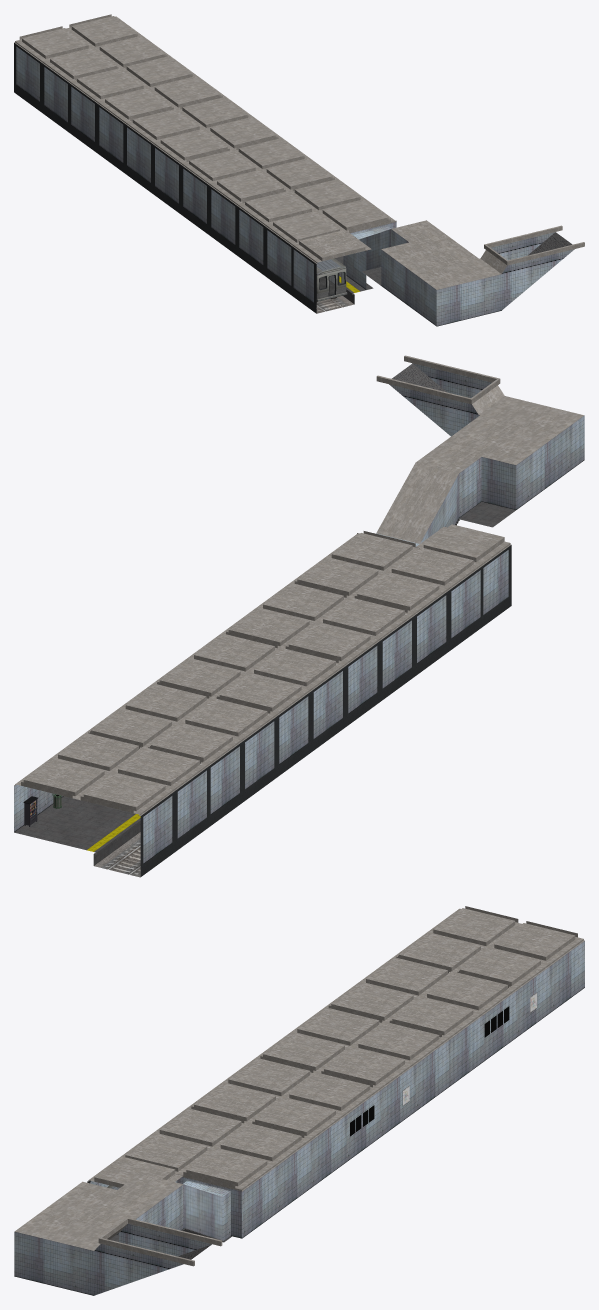
The picture shows the model from 3 angles, top to bottom: view 1: azimuth 30°, elevation 25°; view 2: azimuth 150°, elevation 25°; view 3: azimuth 330°, elevation 25°; orthographic projection. The views are drawn at different scales.
Parts seen in each view (by area): view 1: St_03.001, St_01.002, St_01.003, St_01.001, St_01.004, subway_car.001; view 2: St_03.001, St_01.004, St_01.001, St_01.002, St_01.003, Stairs.001; view 3: St_03.001, St_01.002, St_01.004, St_01.003, St_01.001.
Part boxes in pixels (box(x1,y1,x2,y2)): St_03.001: box(237, 177, 584, 326); St_01.002: box(125, 95, 282, 214); St_01.003: box(69, 54, 226, 173); St_01.001: box(181, 138, 338, 255); St_01.004: box(14, 14, 170, 132); subway_car.001: box(316, 258, 347, 302); St_03.001: box(289, 355, 584, 676); St_01.004: box(14, 731, 209, 877); St_01.001: box(220, 581, 414, 727); St_01.002: box(151, 633, 345, 777); St_01.003: box(83, 682, 276, 827); Stairs.001: box(455, 460, 584, 527); St_03.001: box(14, 1106, 311, 1295); St_01.002: box(255, 1005, 448, 1137); St_01.004: box(392, 906, 584, 1037); St_01.003: box(323, 955, 517, 1086); St_01.001: box(186, 1057, 379, 1187).
Bounding box in the file's own units: 22.79 × 11.57 × 87.44.
20 materials, 20 textured.
